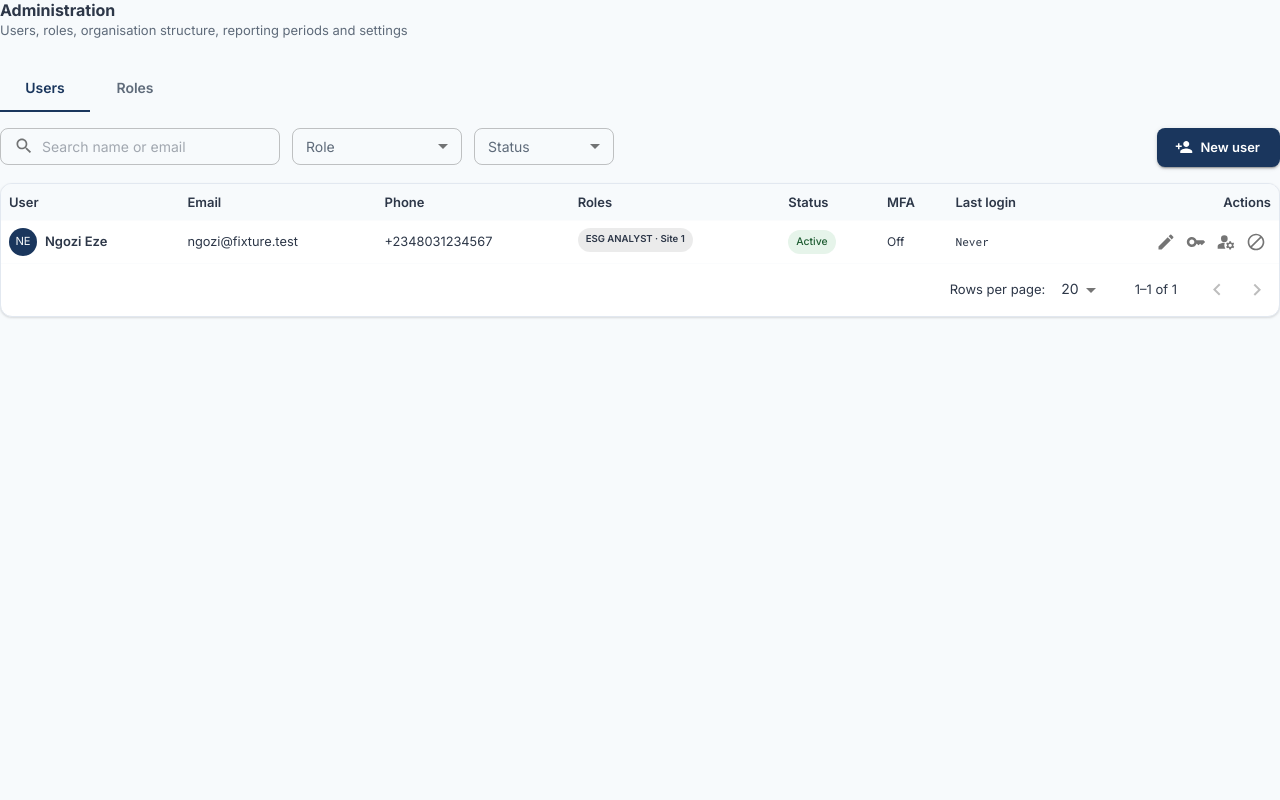
Test case: AdminPage › role picker offers only assignable roles and clears a refusal when the choice changes (S4, F12)
The width and height of the screenshot is (1280, 800).
Click the button named "Roles for ngozi@fixture.test" at (1226, 242), box [1211,227,1241,257]
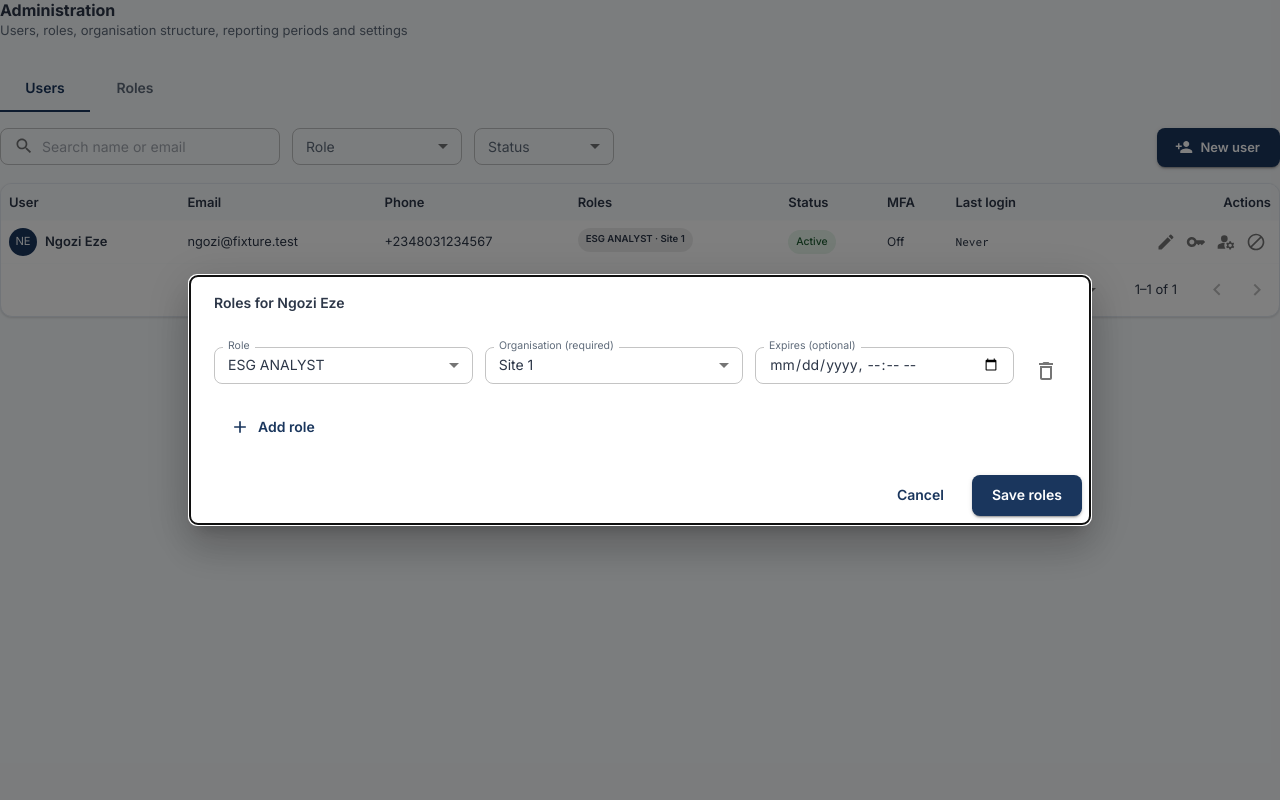
Click the dropdown named "Role" at (276, 365), box [228,356,324,373]
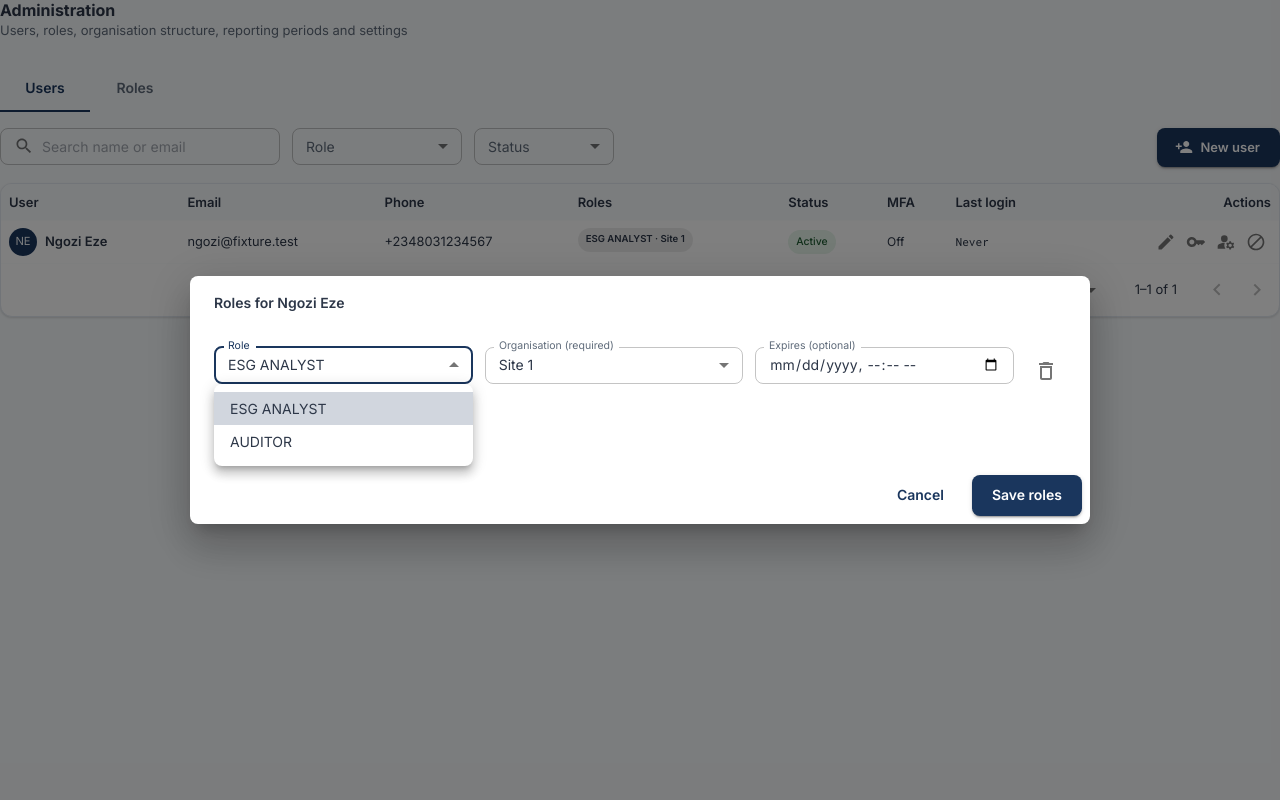
Click the option "AUDITOR" at (261, 442), box [230,433,292,450]
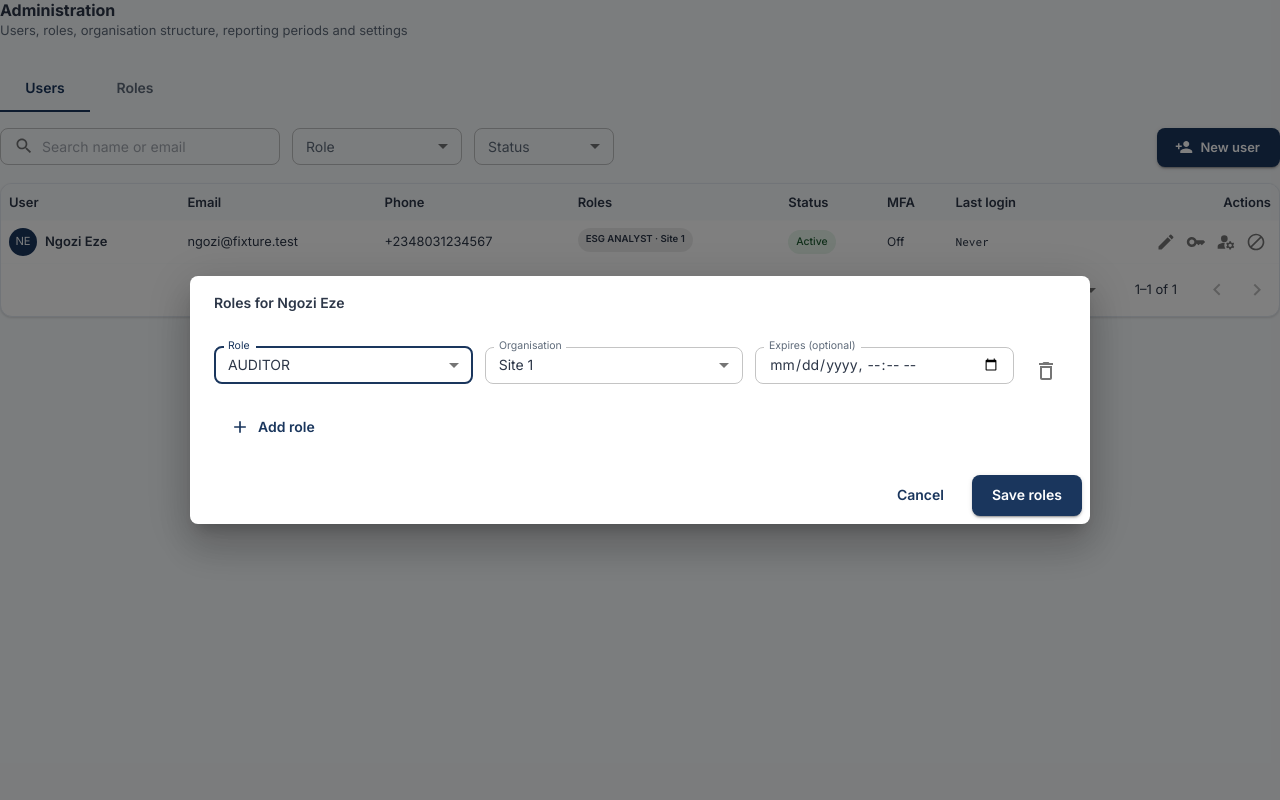
Click the button "Save roles" at (1027, 495), box [972,475,1082,516]
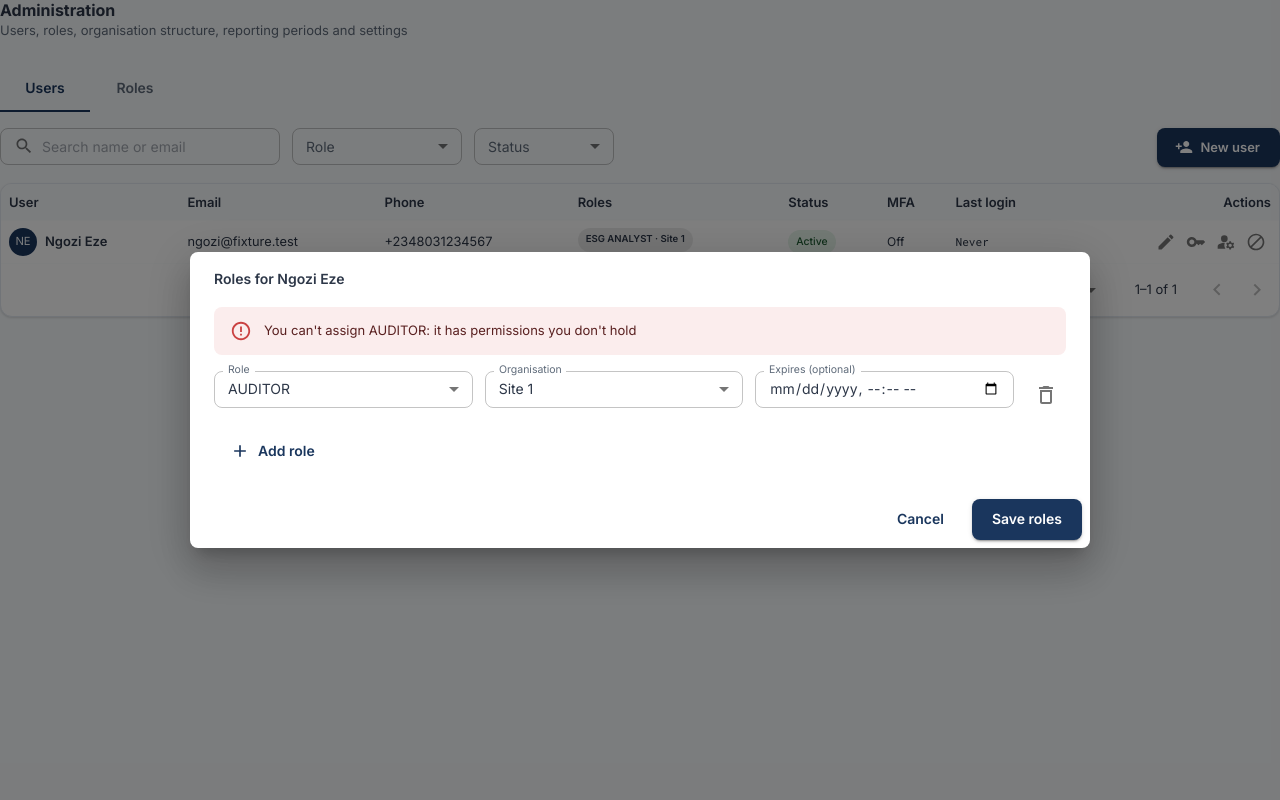
Check: the text "You can't assign AUDITOR: it has permissions you don't hold" is shown, box [264,322,636,338]
Click the dropdown named "Role" at (259, 389), box [228,380,290,397]
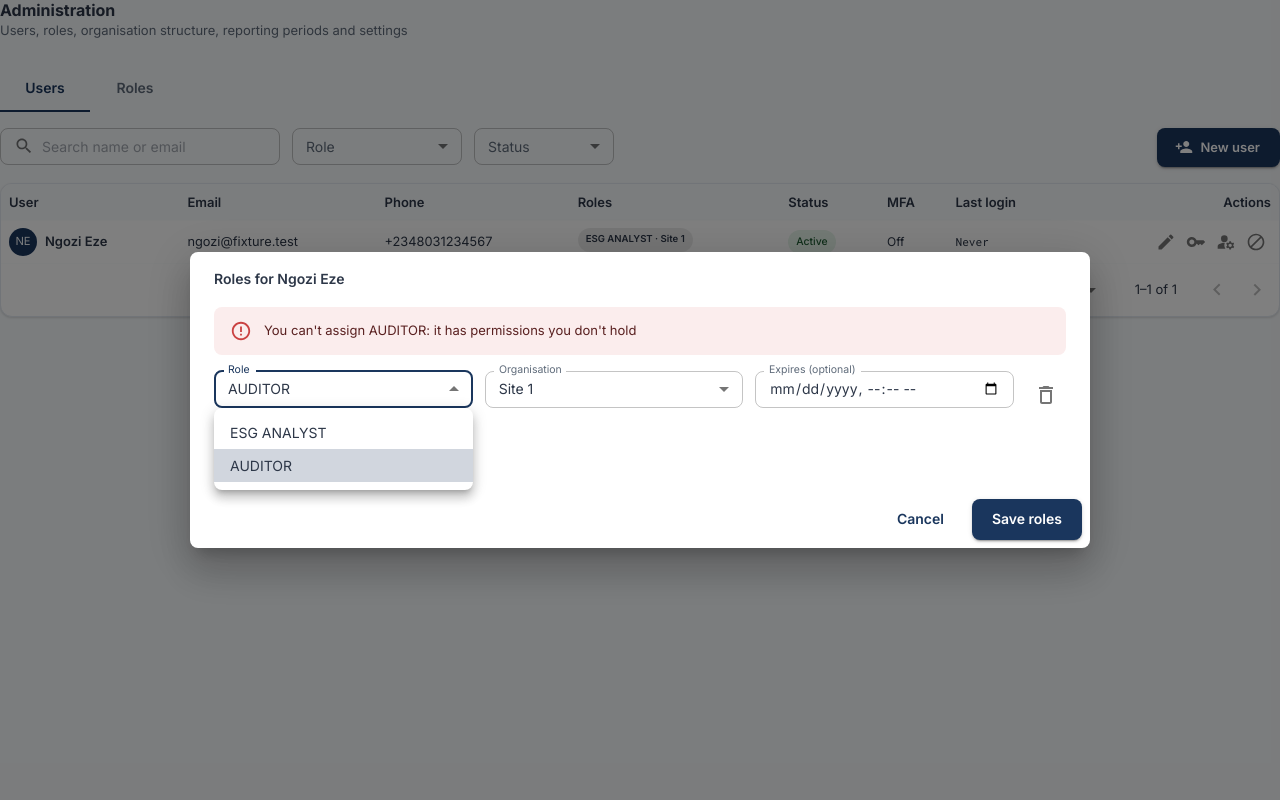
Click the option "ESG ANALYST" at (278, 432), box [230,424,326,441]
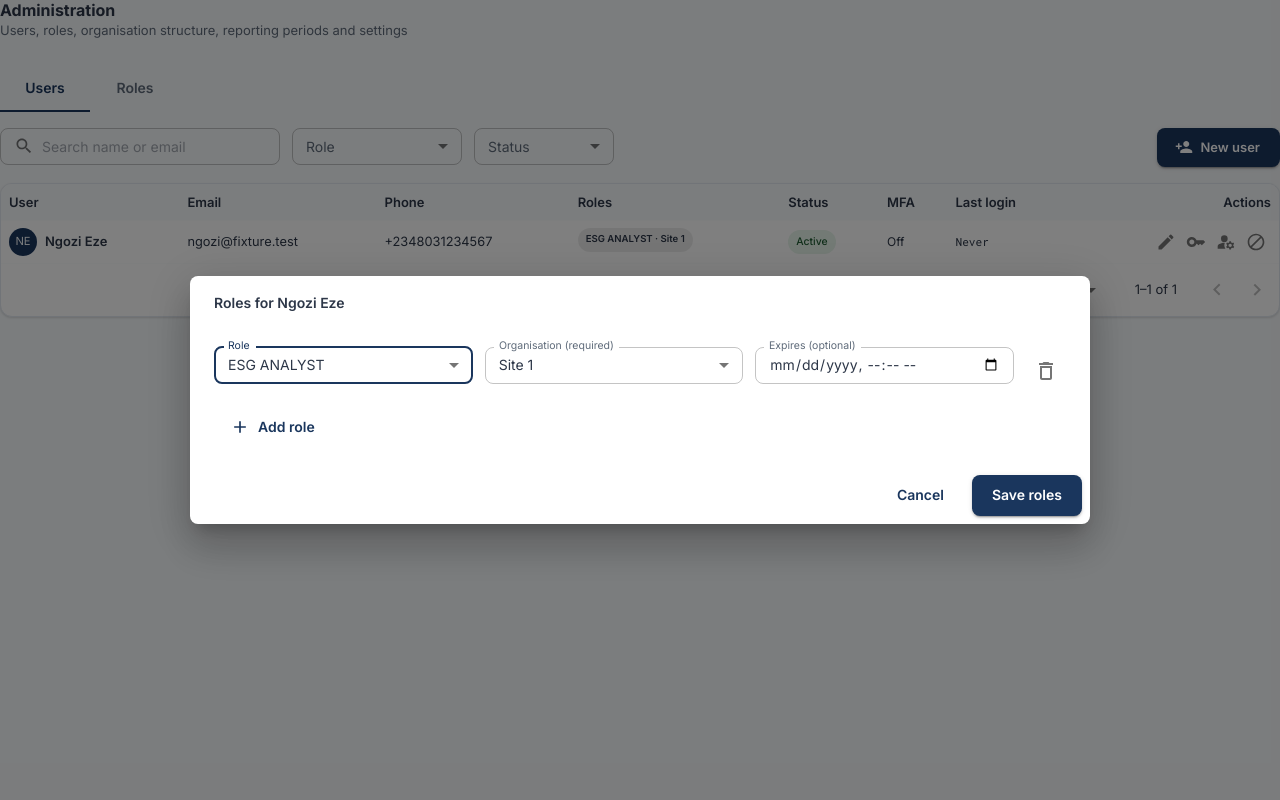
Check: the text "can't assign AUDITOR" is gone
